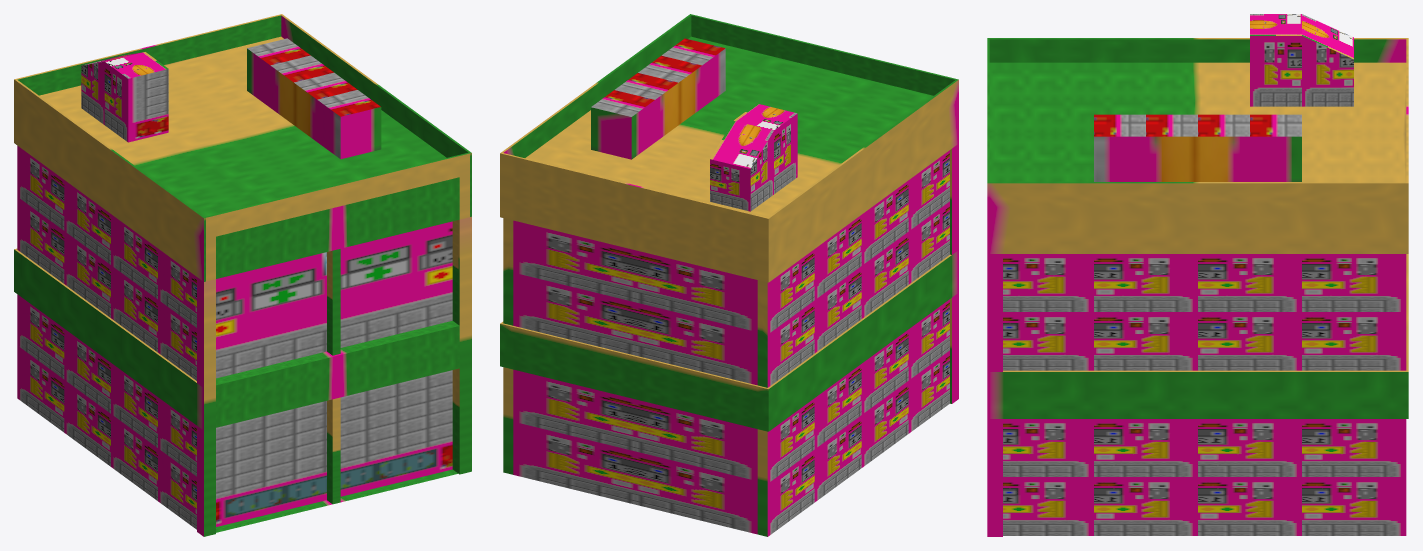
The model's file is Edif 01.fbx.
The picture shows the model from 3 angles, left to right: view 1: azimuth 30°, elevation 25°; view 2: azimuth 150°, elevation 25°; view 3: azimuth 270°, elevation 25°; orthographic projection. The views are drawn at different scales.
Visible parts, largest first — view 1: Edificio 01, Cube.001, Cube; view 2: Edificio 01, Cube.001, Cube; view 3: Edificio 01, Cube.001, Cube.
Part boxes in pixels (left/top/right/bottom): Edificio 01: left=14, top=14, right=471, bottom=536; Cube.001: left=247, top=38, right=381, bottom=159; Cube: left=81, top=52, right=168, bottom=142; Edificio 01: left=500, top=14, right=958, bottom=536; Cube.001: left=591, top=38, right=725, bottom=159; Cube: left=710, top=103, right=797, bottom=211; Edificio 01: left=987, top=38, right=1408, bottom=536; Cube.001: left=1094, top=114, right=1301, bottom=181; Cube: left=1250, top=14, right=1353, bottom=106.
Bounding box in the file's own units: 1320 × 1700 × 1620.
